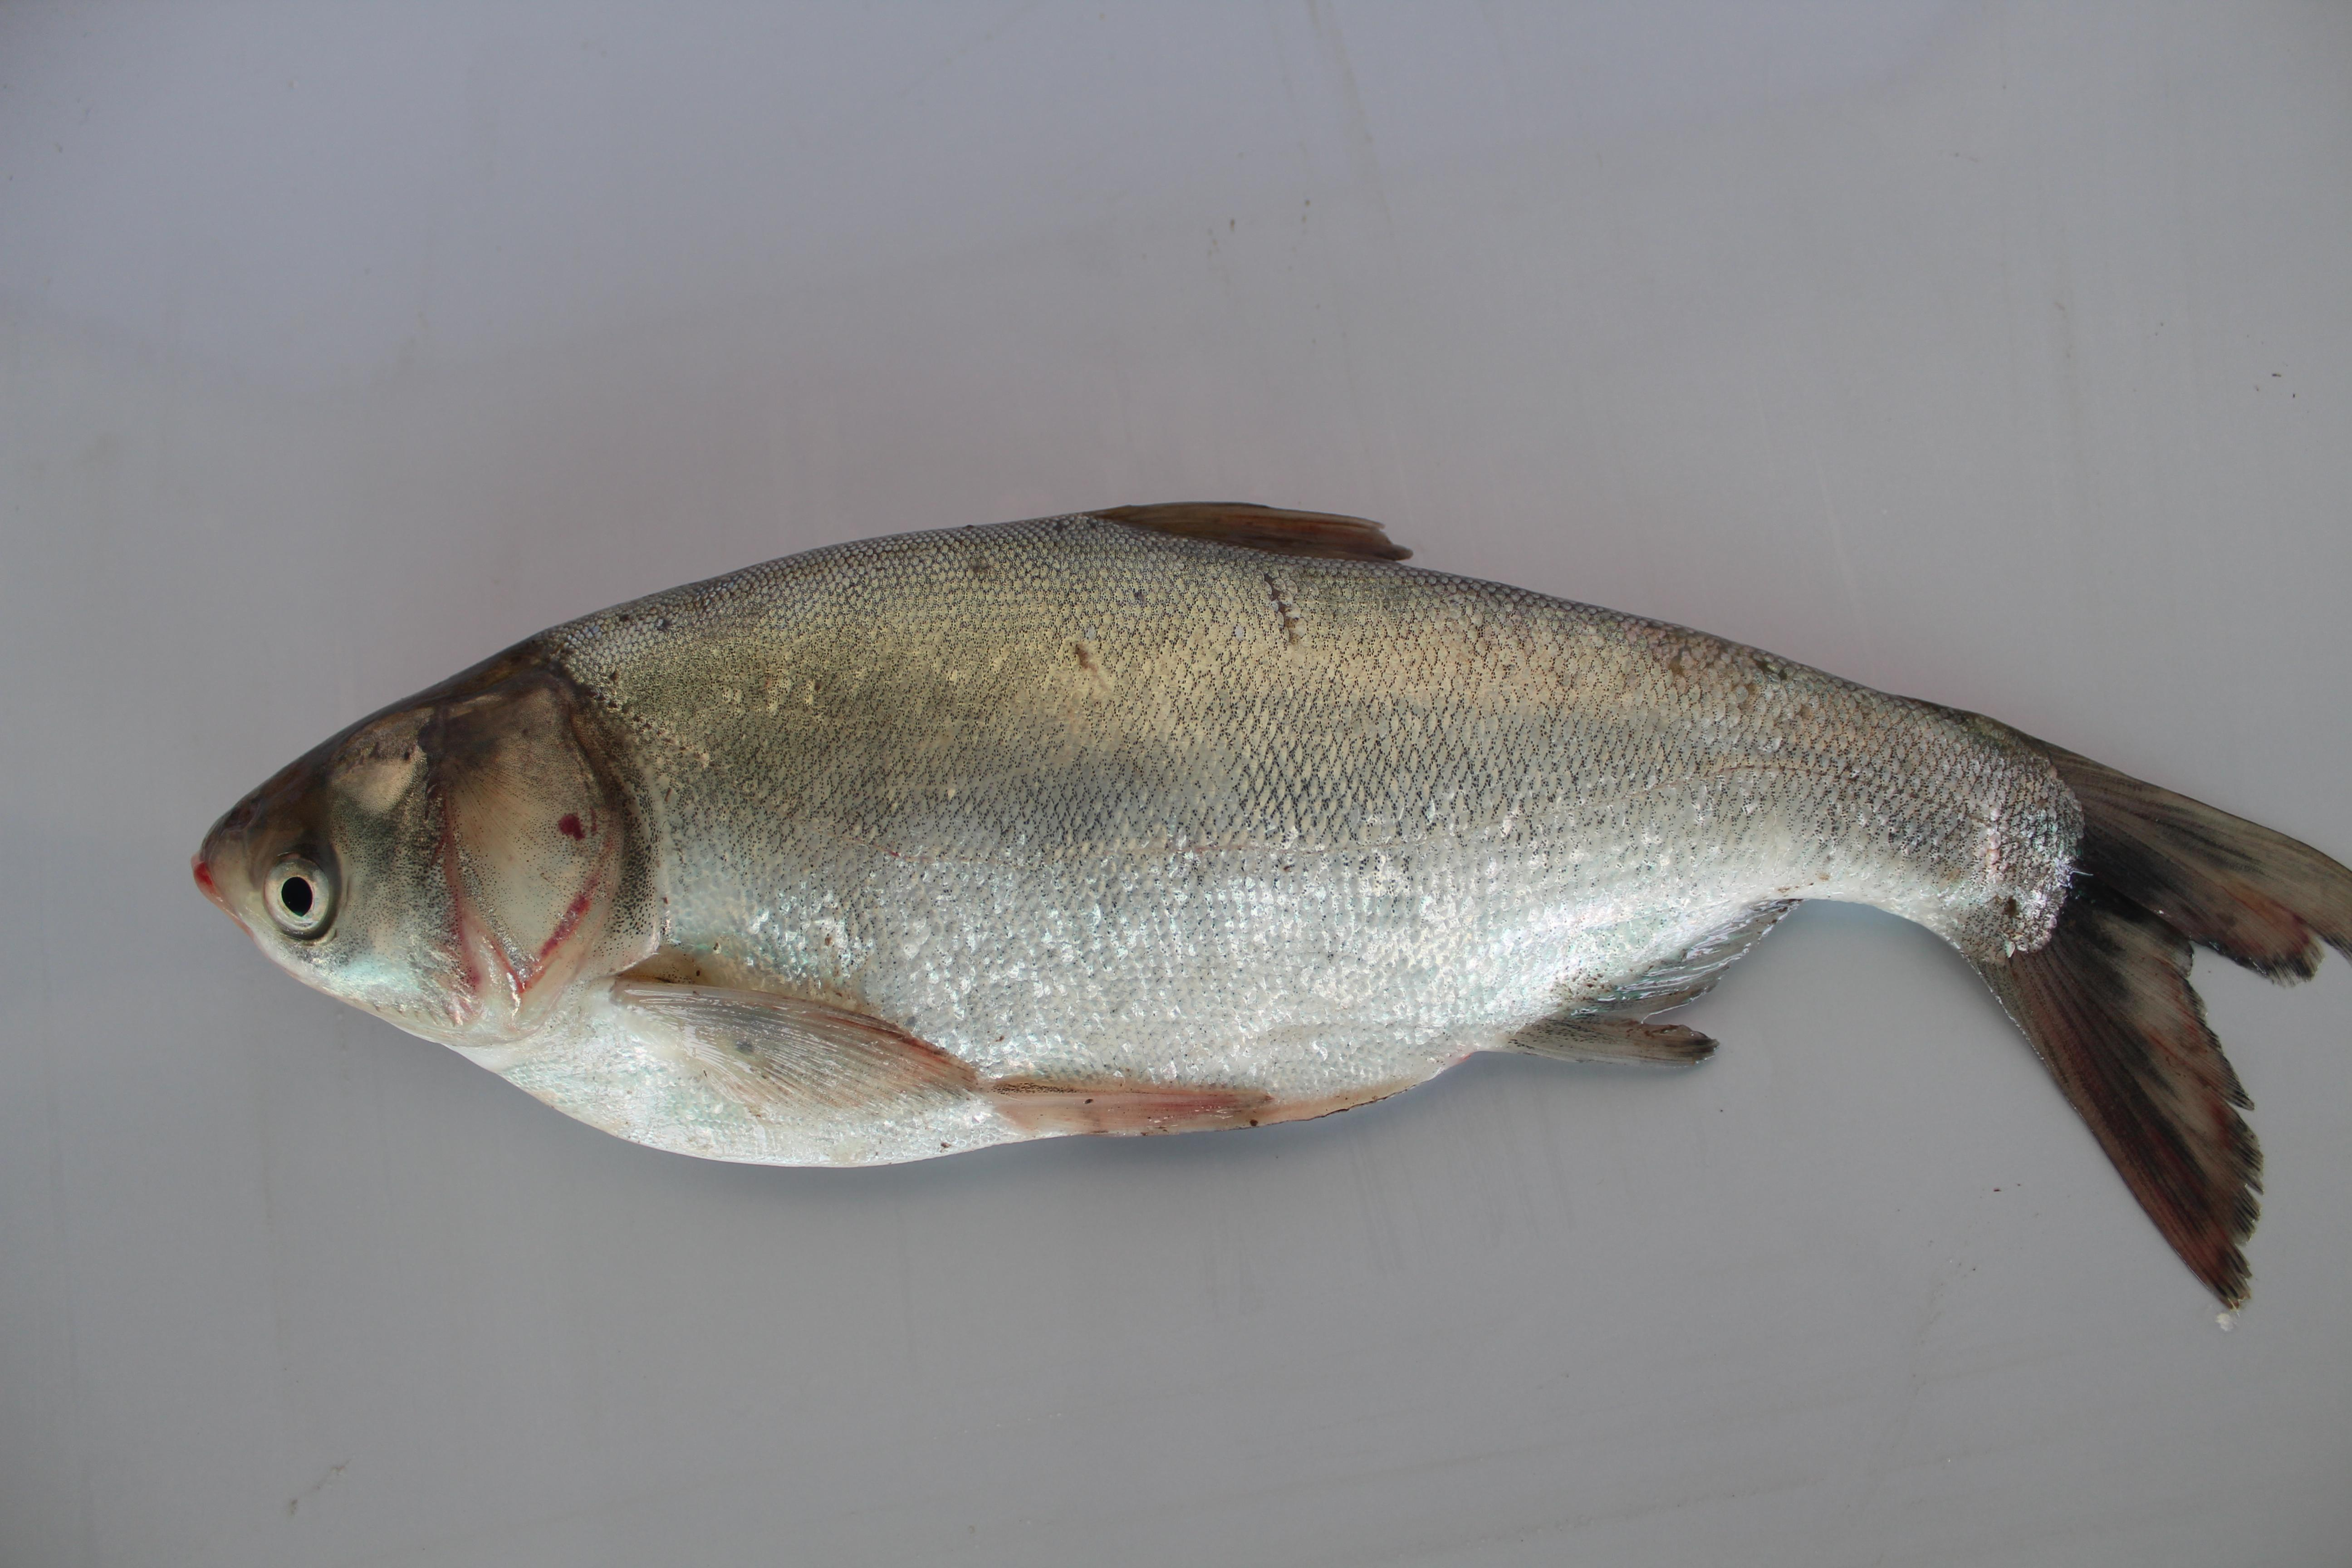Silver Carp: (192, 485, 2352, 1362)
